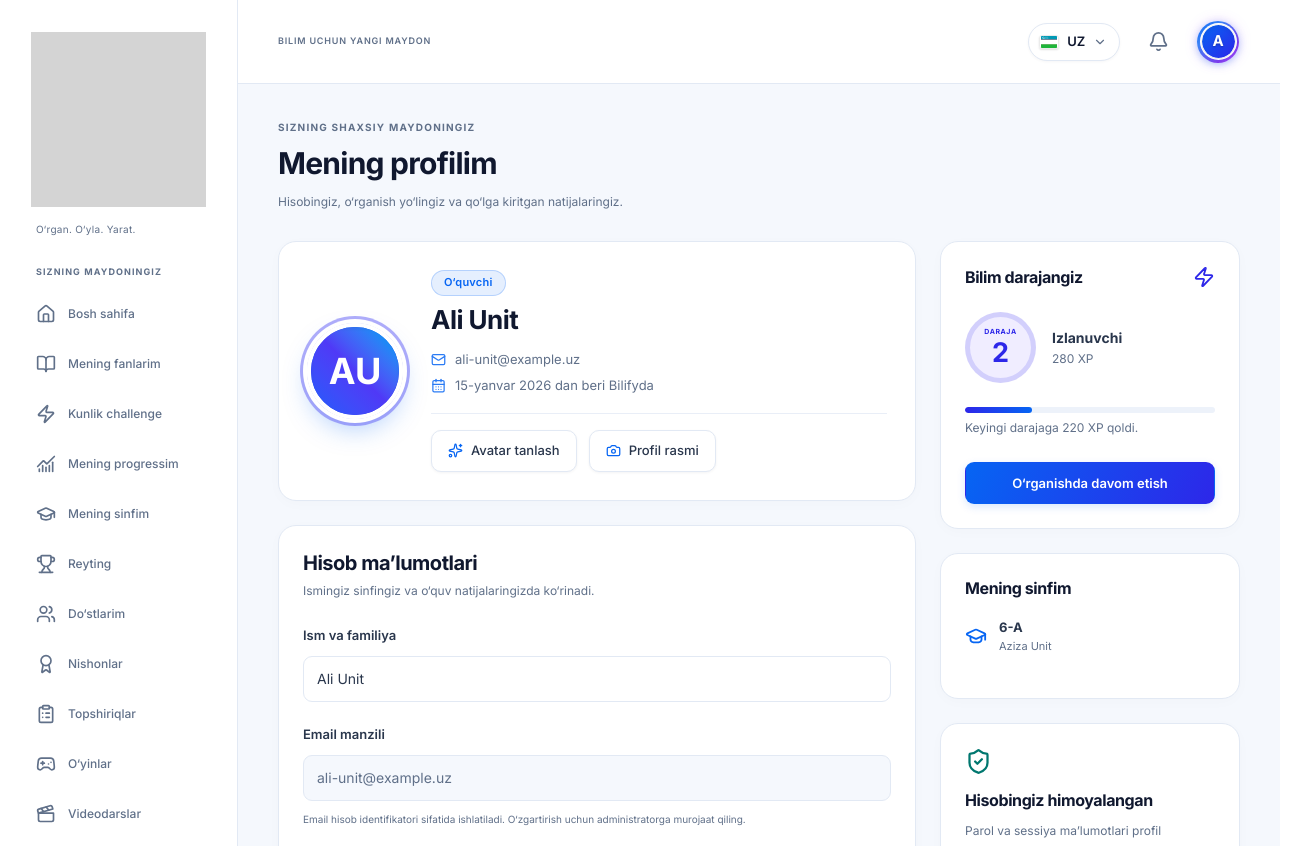
Scenario: profile page › saves only the name and updates both the profile and account header
Replace the text in the field labelled "Ism va familiya" with "Madina Unit" at (597,679), box [303,656,891,702]
(page scrolled)
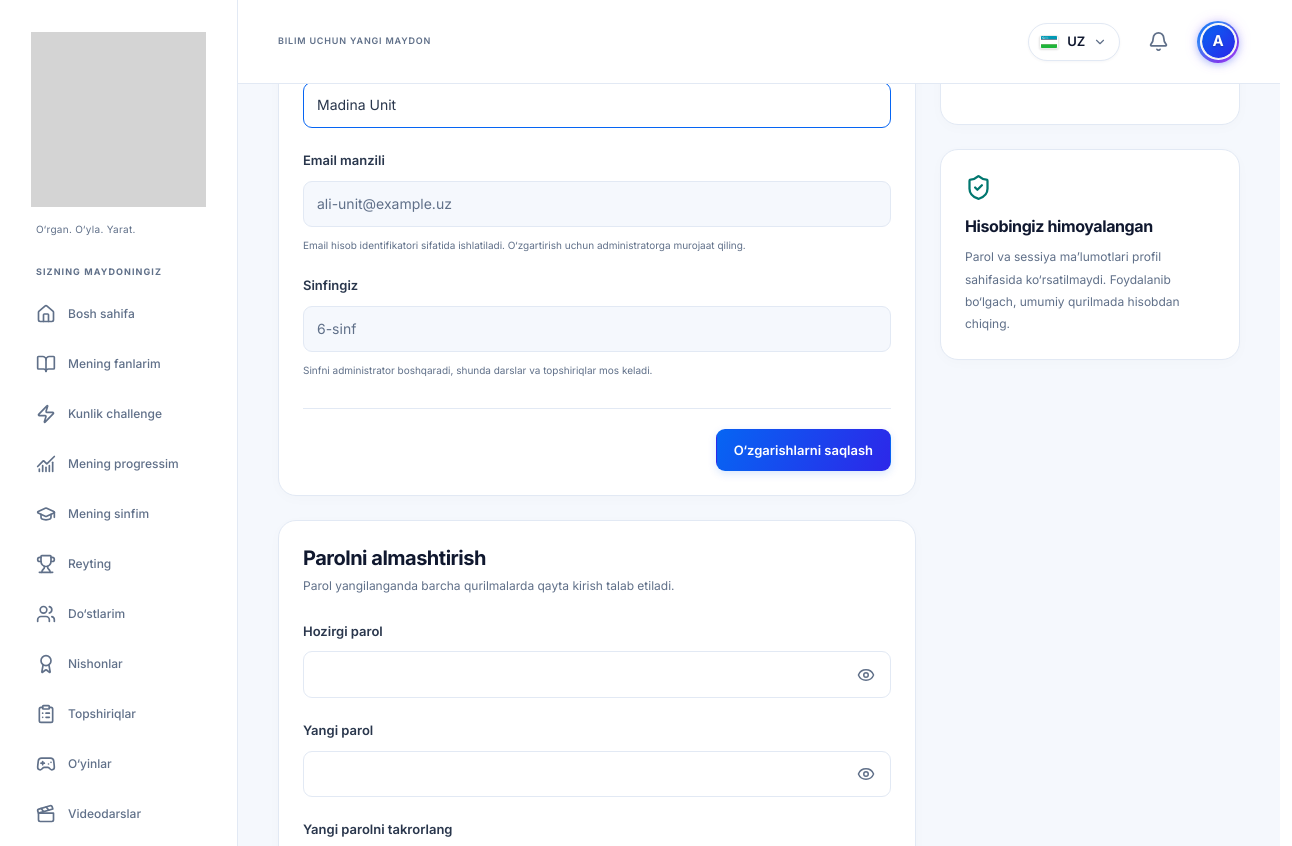
Click the button "O‘zgarishlarni saqlash".
click(803, 450)  # box [716,429,891,471]
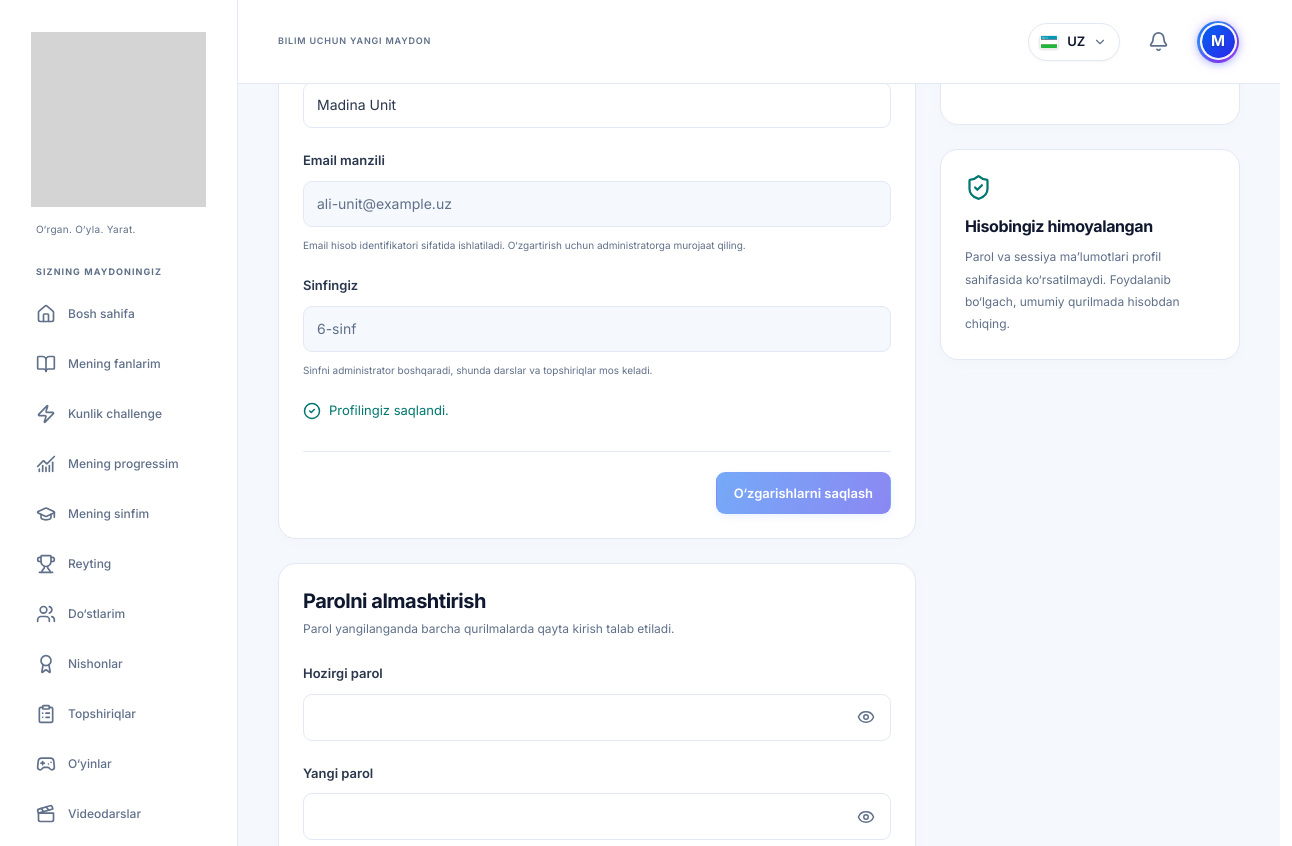
Result: the message reads "Profilingiz saqlandi." at [329,402,449,418]
Result: the button "O‘zgarishlarni saqlash" is disabled at [716,472,891,514]
